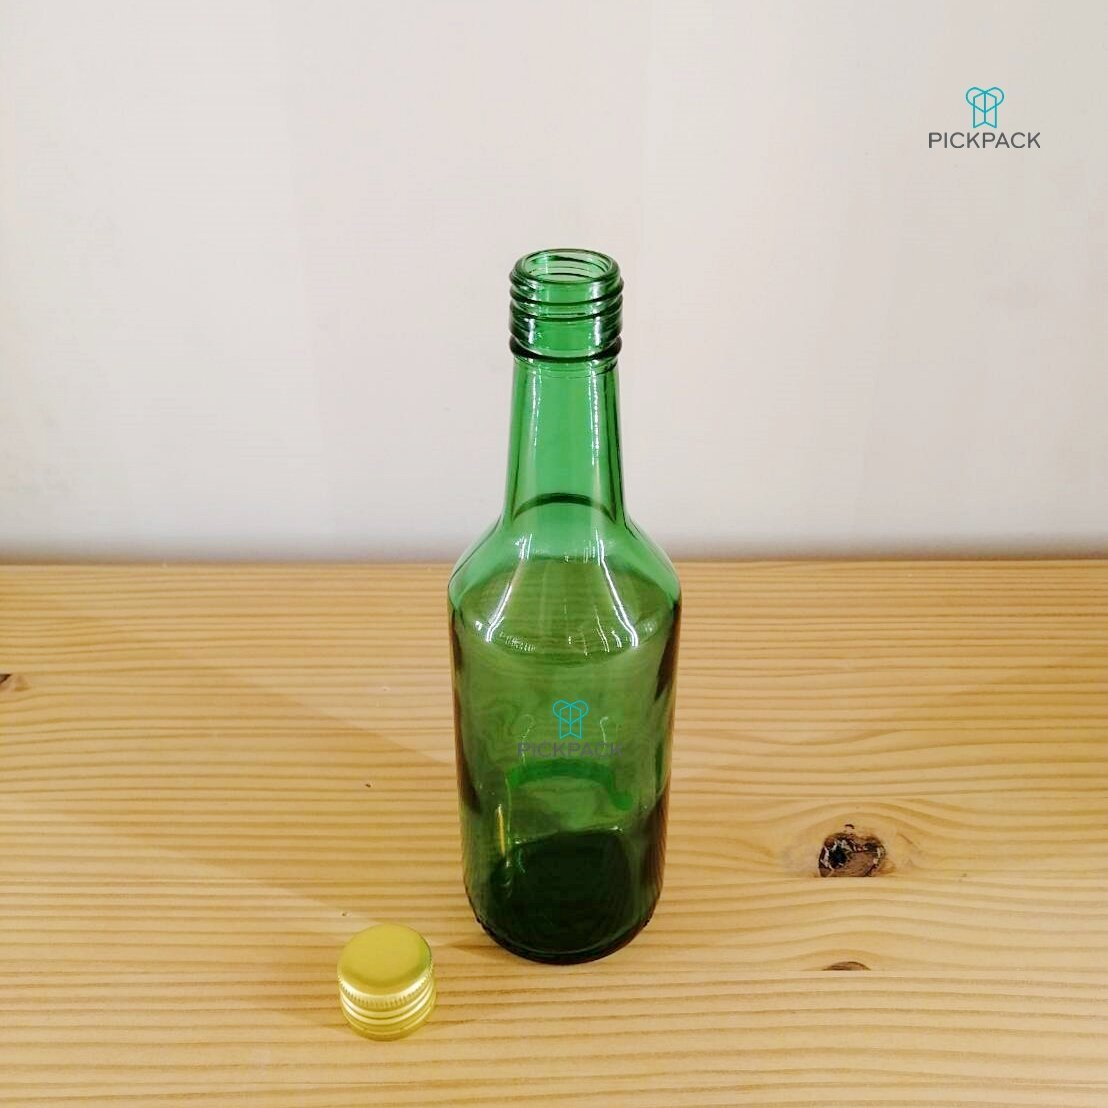glass_bottle: (437, 229, 692, 971)
